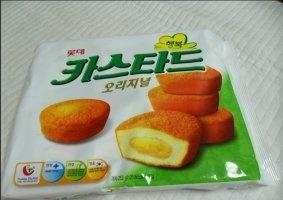snack: (2, 28, 269, 198)
